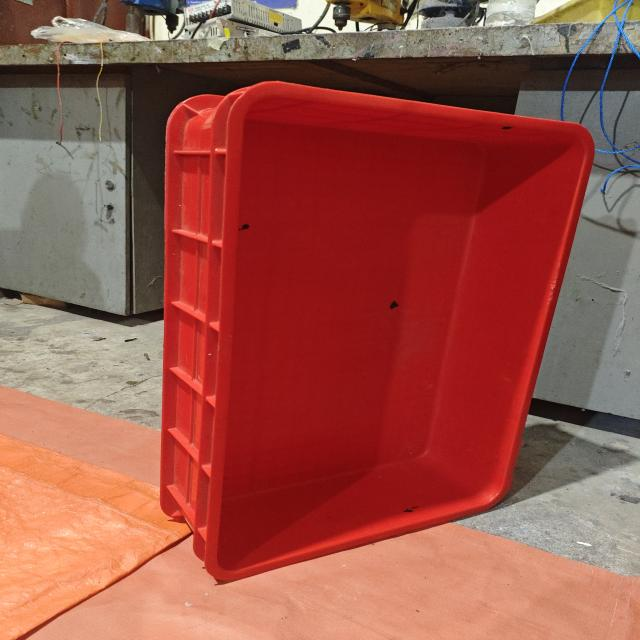red plastic box: (160, 80, 595, 582)
